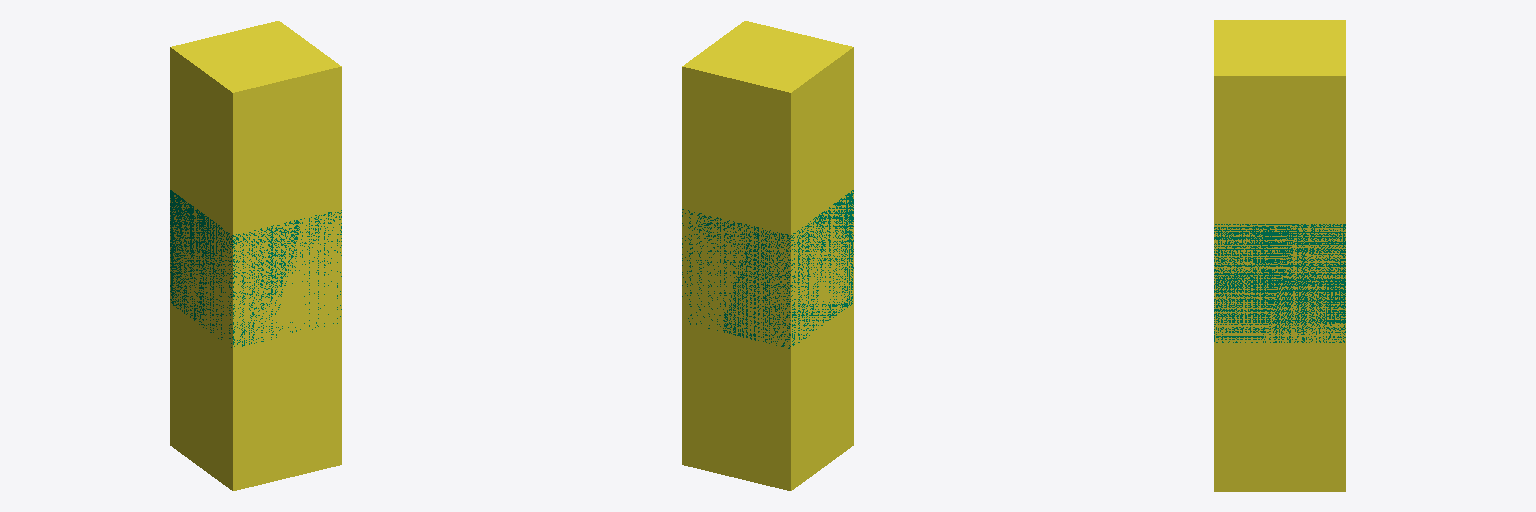
robot.urdf — wsg50_with_gripper:
<?xml version="1.0" encoding="utf-8"?>
<robot name="wsg50_with_gripper">

  <link name="world" />

  <link name="base_link">
    <inertial>
      <mass value="1.2" />
      <inertia ixx="1" ixy="0" ixz="0" iyy="1" iyz="0" izz="1" />
    </inertial>
    <visual name="base_link_visual">
      <geometry>
        <mesh filename="meshes/WSG50_110.stl" scale="1 1 1" />
      </geometry>
    </visual>
  </link>

  <link name="motor">
    <inertial>
      <mass value="0.1" />
      <inertia ixx="0.1" ixy="0" ixz="0" iyy="0.1" iyz="0" izz="0.1" />
    </inertial>
    <visual name="motor_visual">
      <geometry>
        <box size="0.02 0.02 0.02" />
      </geometry>
    </visual>
  </link>

  <link name="left_hinge">
    <inertial>
      <mass value="0.1" />
      <inertia ixx="0.1" ixy="0" ixz="0" iyy="0.1" iyz="0" izz="0.1" />
    </inertial>
    <visual name="motor_visual">
      <geometry>
        <box size="0.02 0.02 0.07" />
      </geometry>
    </visual>
  </link>

  <link name="right_hinge">
    <inertial>
      <mass value="0.1" />
      <inertia ixx="0.1" ixy="0" ixz="0" iyy="0.1" iyz="0" izz="0.1" />
    </inertial>
    <visual name="motor_visual">
      <geometry>
        <box size="0.02 0.02 0.07" />
      </geometry>
    </visual>
  </link>

  <link name="gripper_left">
    <inertial>
      <mass value="0.2" />
      <inertia ixx="0.1" ixy="0" ixz="0" iyy="0.1" iyz="0" izz="0.1" />
    </inertial>
    <visual name="gripper_left_visual">
      <geometry>
        <mesh filename="meshes/GUIDE_WSG50_110.stl" scale="0.001 0.001 0.001" />
      </geometry>
    </visual>
    <visual name="gripper_left_fixed_joint_lump__finger_left_visual_1">
      <geometry>
        <mesh filename="meshes/WSG-FMF.stl" scale="0.001 0.001 0.001" />
      </geometry>
    </visual>
  </link>

  <link name="gripper_right">
    <inertial>
      <mass value="0.2" />
      <inertia ixx="0.1" ixy="0" ixz="0" iyy="0.1" iyz="0" izz="0.1" />
    </inertial>
    <visual name="gripper_right_visual">
      <geometry>
        <mesh filename="meshes/GUIDE_WSG50_110.stl" scale="0.001 0.001 0.001" />
      </geometry>
    </visual>
    <visual name="gripper_right_fixed_joint_lump__finger_right_visual_1">
      <geometry>
        <mesh filename="meshes/WSG-FMF.stl" scale="0.001 0.001 0.001" />
      </geometry>
    </visual>
  </link>

  <link name="finger_right">
    <inertial>
      <mass value="0.2" />
      <inertia ixx="0.1" ixy="0" ixz="0" iyy="0.1" iyz="0" izz="0.1" />
    </inertial>
    <visual name="finger_right_visual">
      <geometry>
        <mesh filename="meshes/l_gripper_tip_scaled.stl" scale="1 1 1" />
      </geometry>
    </visual>
  </link>

  <link name="finger_left">
    <inertial>
      <mass value="0.2" />
      <inertia ixx="0.1" ixy="0" ixz="0" iyy="0.1" iyz="0" izz="0.1" />
    </inertial>
    <visual name="finger_left_visual">
      <geometry>
        <mesh filename="meshes/l_gripper_tip_scaled.stl" scale="1 1 1" />
      </geometry>
    </visual>
  </link>

  <joint name="base_joint" type="prismatic">
    <parent link="world" />
    <child link="base_link" />
    <axis xyz="0 0 1" />
  </joint>

  <joint name="base_joint_motor" type="prismatic">
    <parent link="base_link" />
    <child link="motor" />
    <axis xyz="0 0 1" />
  </joint>

  <joint name="motor_left_hinge_joint" type="revolute">
    <parent link="motor" />
    <child link="left_hinge" />
    <axis xyz="0 1 0" />
  </joint>

  <joint name="motor_right_hinge_joint" type="revolute">
    <parent link="motor" />
    <child link="right_hinge" />
    <axis xyz="0 1 0" />
  </joint>

  <joint name="gripper_left_hinge_joint" type="prismatic">
    <parent link="base_link" />
    <child link="gripper_left" />
    <axis xyz="1 0 0" />
  </joint>

  <joint name="gripper_right_hinge_joint" type="prismatic">
    <parent link="base_link" />
    <child link="gripper_right" />
    <axis xyz="1 0 0" />
  </joint>

  <joint name="gripper_finger_right" type="fixed">
    <parent link="gripper_right" />
    <child link="finger_right" />
  </joint>

  <joint name="gripper_finger_left" type="fixed">
    <parent link="gripper_left" />
    <child link="finger_left" />
  </joint>

</robot>

--- What the picture shows (computed from the rendered views, not written in the file) ---
3 views of the same robot in one strip: view 1: azimuth 30°, elevation 25°; view 2: azimuth 150°, elevation 25°; view 3: azimuth 270°, elevation 25° (orthographic).
Model wsg50_with_gripper with 9 links and 8 joints (2 revolute, 4 prismatic, 2 fixed), rooted at world, posed every joint at zero.
Links seen in each view (by area): view 1: left_hinge, motor; view 2: left_hinge, motor; view 3: left_hinge, motor.
Boxes of the visible links, x1,y1,x2,y2 form: left_hinge: (170,21,341,490); motor: (170,190,341,347); left_hinge: (682,21,853,490); motor: (682,190,853,348); left_hinge: (1214,20,1345,491); motor: (1214,224,1345,342).
Size in the robot's own frame: 0.02 by 0.02 by 0.07 metres.
Meshes: 4 distinct files referenced, 0 mesh visuals loaded (none loaded); not drawn: 7 (reference not matched to a file when rendering).